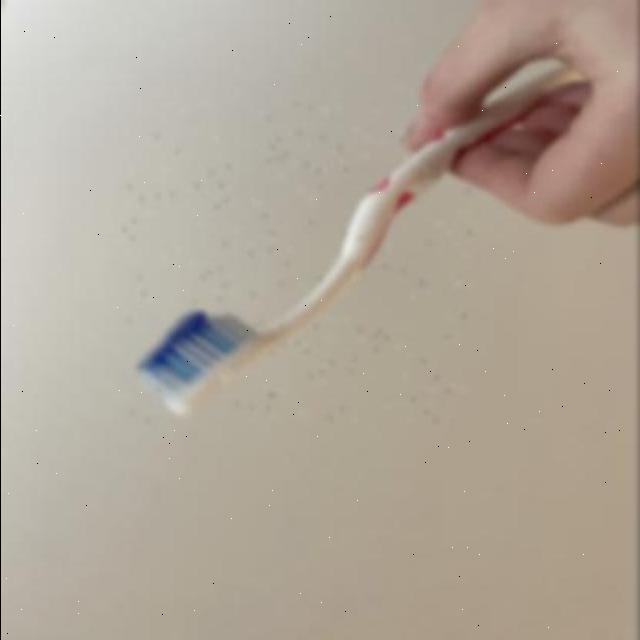toothbrush: (123, 103, 473, 421)
